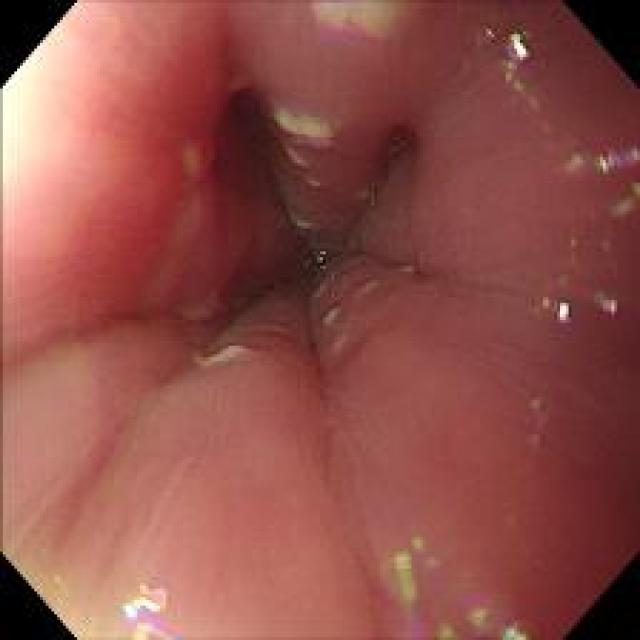bubbles: (302, 244, 329, 269)
color misalignment: (380, 539, 512, 634), (475, 18, 561, 99), (571, 140, 639, 215), (116, 592, 169, 638), (564, 231, 619, 275), (536, 281, 575, 326), (522, 391, 549, 454), (134, 582, 170, 611), (522, 99, 551, 134), (595, 288, 620, 320), (496, 619, 531, 638)
saturation: (0, 26, 66, 188)
specularity: (122, 596, 159, 619), (556, 298, 570, 320), (512, 41, 526, 60)
